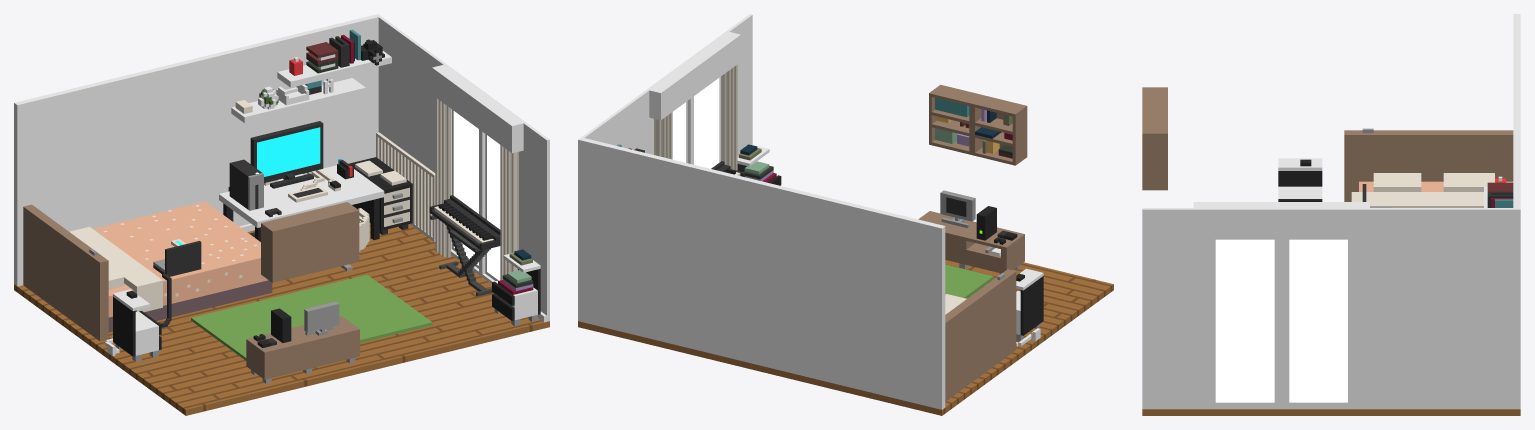
The model's file is working_space.glb.
3 renders of one model, left to right at view 1: azimuth 30°, elevation 25°; view 2: azimuth 150°, elevation 25°; view 3: azimuth 270°, elevation 25°, orthographic. The views are drawn at different scales.
Visible parts, largest first — view 1: Object_2; view 2: Object_2; view 3: Object_2.
Boxes of the visible parts, <box> form: Object_2: <box>14,14,549,415</box>; Object_2: <box>578,14,1113,415</box>; Object_2: <box>1142,14,1520,415</box>.
Size of the model in its own units: 126 by 62 by 103.
Materials: 1 (1 with a texture image).
